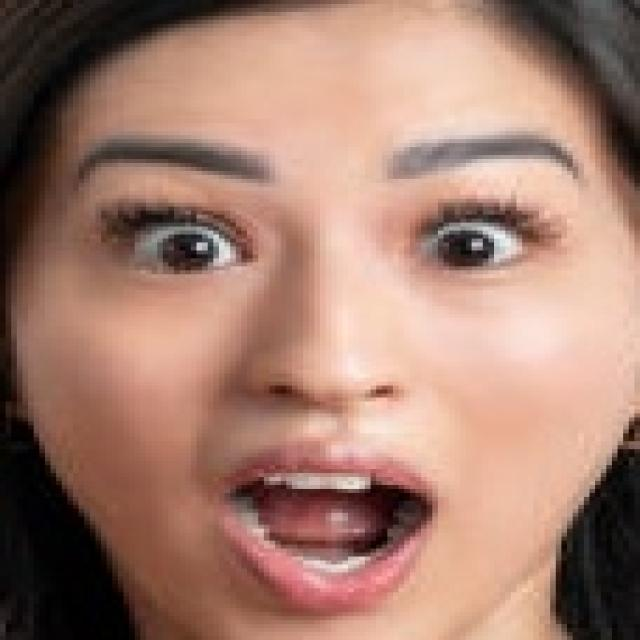Anxiety: (0, 0, 634, 636)
